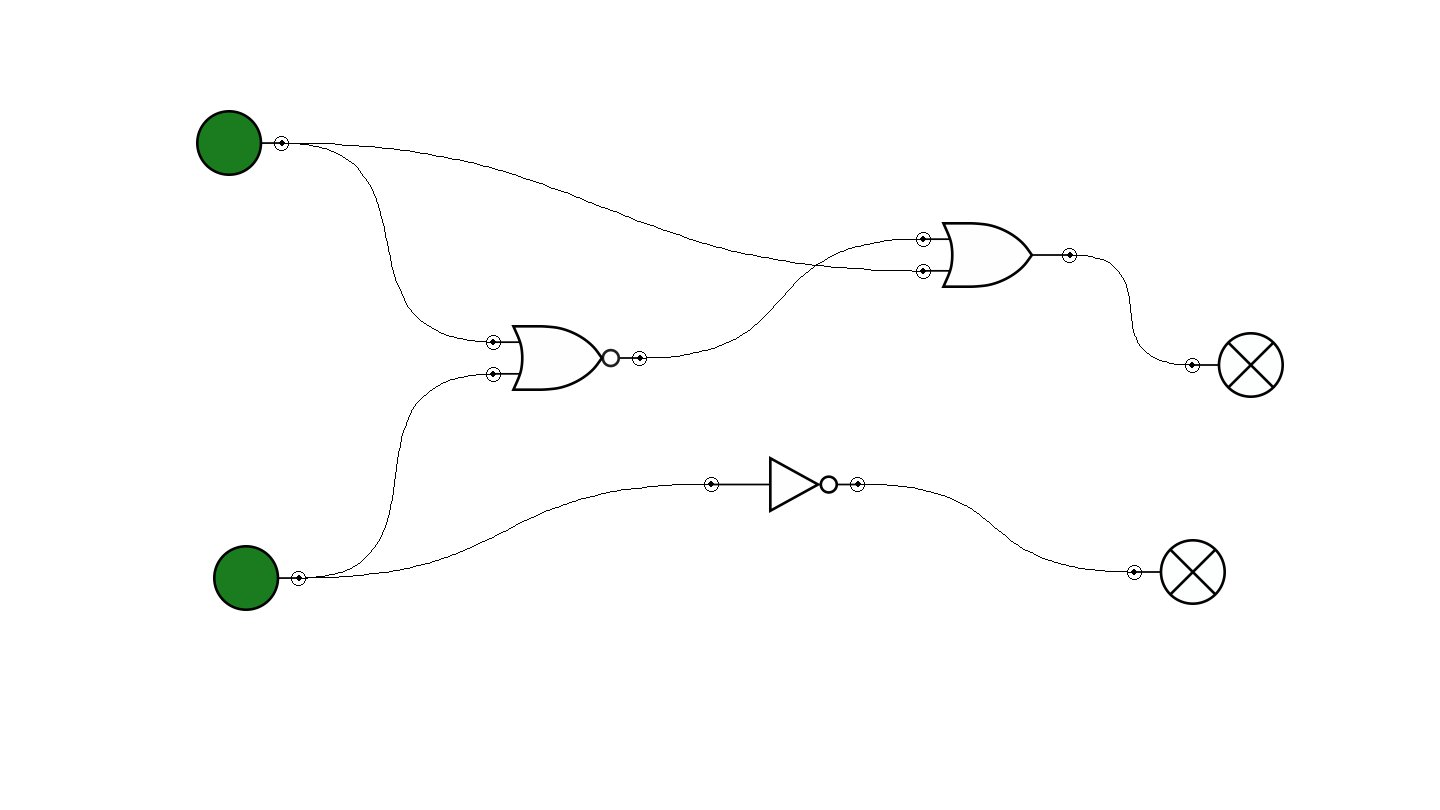bulb: (1127, 539, 1226, 605), (1185, 332, 1284, 398)
nor: (486, 325, 647, 391)
not: (704, 456, 865, 513)
or: (916, 222, 1077, 288)
switch_True: (213, 545, 306, 611), (196, 110, 289, 176)
